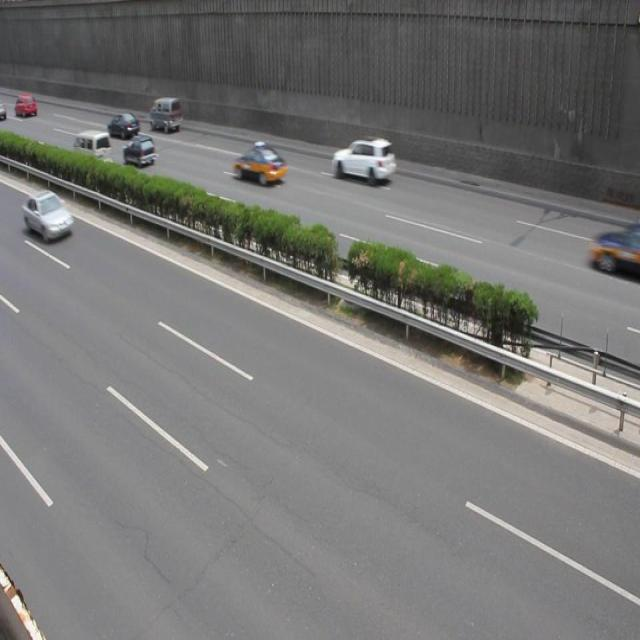car: (330, 136, 396, 184), (23, 189, 74, 244), (232, 140, 289, 187), (123, 133, 156, 168), (106, 111, 139, 139)
truck: (71, 128, 112, 168), (149, 97, 181, 133)
